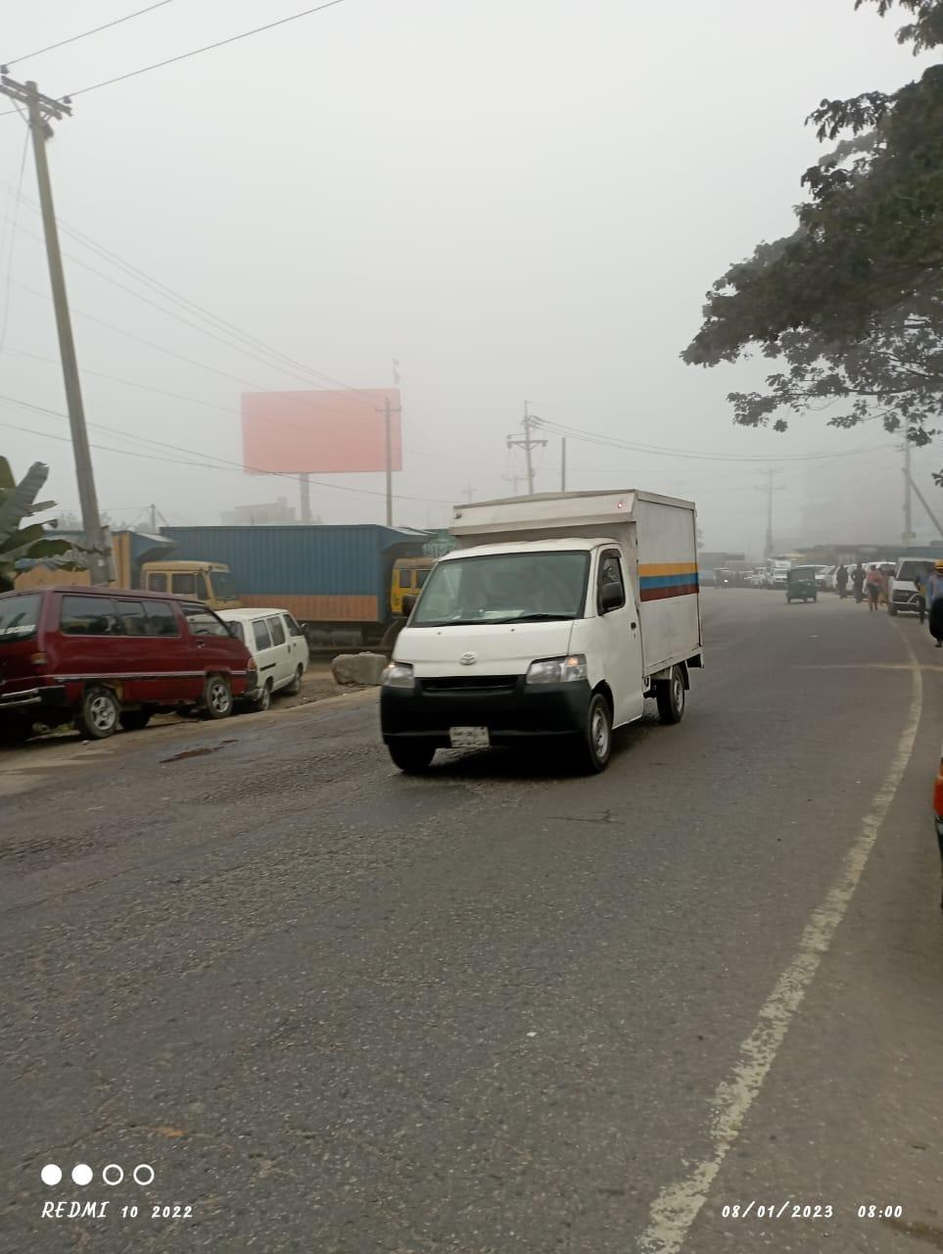Car: (6, 576, 264, 733)
Truck: (360, 485, 709, 773), (159, 518, 437, 650)
